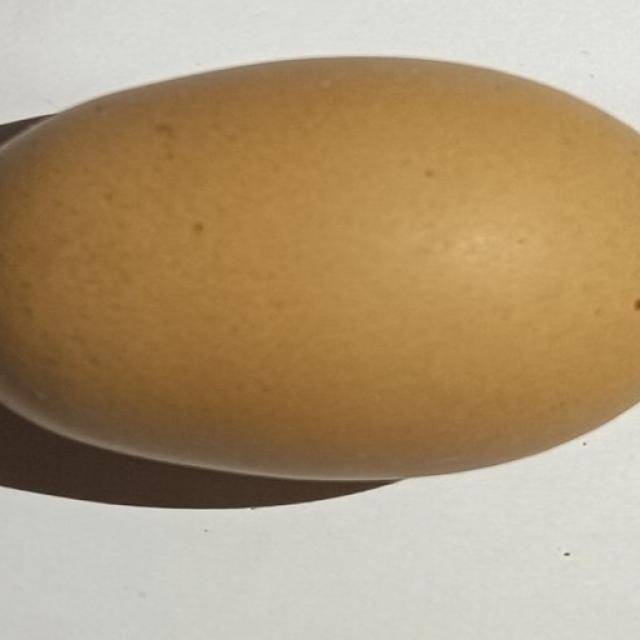fresh: (0, 41, 640, 484)
